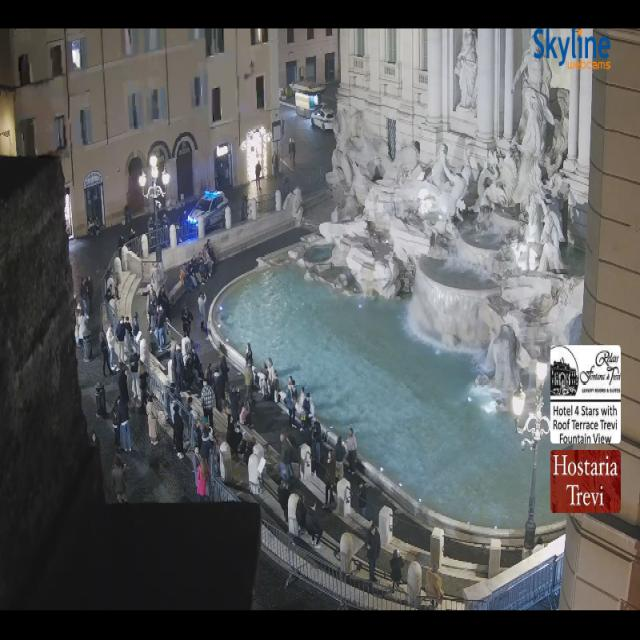person: (293, 421, 321, 473), (221, 386, 243, 446), (216, 383, 247, 422), (185, 396, 207, 447), (174, 342, 195, 391), (295, 421, 314, 470), (233, 422, 255, 464), (147, 289, 162, 349), (203, 425, 220, 477), (181, 337, 199, 386), (203, 426, 220, 477), (104, 269, 121, 316), (306, 503, 323, 549), (222, 383, 241, 424), (187, 396, 202, 447), (367, 523, 380, 581), (100, 326, 116, 372), (148, 213, 168, 249), (425, 566, 443, 606), (119, 392, 131, 452), (201, 379, 216, 426), (236, 368, 258, 400), (223, 382, 241, 421), (148, 213, 168, 248), (149, 286, 170, 319), (116, 317, 131, 363), (112, 457, 127, 502), (150, 288, 171, 320), (244, 365, 263, 400), (216, 386, 233, 425), (280, 432, 293, 483), (108, 270, 122, 317), (187, 241, 213, 266), (104, 268, 122, 303), (255, 359, 273, 393), (105, 269, 123, 302), (119, 317, 132, 362), (185, 257, 203, 289), (105, 269, 123, 301), (129, 352, 141, 400), (325, 449, 335, 506), (132, 329, 148, 364), (173, 344, 184, 394), (173, 403, 183, 458), (112, 396, 122, 451), (188, 251, 204, 285), (100, 331, 112, 376), (197, 456, 209, 501), (146, 396, 157, 444), (226, 422, 242, 455), (186, 257, 203, 288), (278, 479, 290, 522), (390, 550, 403, 589), (335, 436, 346, 482), (304, 397, 316, 439), (285, 377, 295, 427), (312, 421, 321, 475), (212, 368, 223, 412), (147, 289, 158, 333), (180, 263, 196, 293), (199, 426, 213, 460), (116, 316, 126, 363), (191, 253, 206, 284), (184, 259, 199, 290), (123, 206, 135, 244), (192, 350, 204, 387), (118, 364, 129, 404), (156, 306, 166, 349), (139, 360, 147, 413), (147, 295, 157, 337), (148, 290, 158, 332), (257, 364, 269, 399), (157, 288, 171, 318), (223, 385, 233, 426), (288, 436, 300, 470), (200, 242, 212, 276), (167, 341, 176, 386), (347, 428, 356, 473), (296, 494, 307, 530), (190, 255, 203, 285), (224, 381, 239, 407), (77, 311, 88, 346), (204, 245, 215, 279), (158, 213, 169, 246), (182, 304, 193, 337), (107, 326, 115, 371), (180, 263, 192, 293), (262, 363, 272, 399), (252, 363, 267, 387), (288, 377, 297, 417), (264, 357, 275, 389), (229, 390, 240, 422), (125, 209, 135, 244), (192, 448, 200, 491), (81, 278, 90, 316), (199, 250, 210, 281), (265, 359, 275, 393), (80, 280, 88, 321), (107, 271, 119, 298), (288, 439, 300, 466), (301, 394, 310, 430), (163, 307, 171, 347), (188, 259, 199, 288), (243, 438, 255, 464), (124, 317, 132, 356), (112, 269, 122, 299), (180, 266, 191, 293), (220, 356, 229, 389), (80, 278, 88, 315), (244, 366, 252, 403), (198, 293, 206, 330), (105, 269, 115, 298), (180, 337, 191, 363), (204, 240, 216, 263), (359, 484, 367, 518), (104, 276, 114, 303), (194, 417, 203, 447), (86, 276, 93, 314), (158, 211, 171, 231), (75, 303, 81, 346), (81, 278, 88, 314), (80, 278, 87, 314), (296, 387, 305, 415), (204, 410, 213, 438), (90, 431, 100, 456), (132, 326, 142, 351), (176, 210, 190, 227), (239, 431, 248, 457), (240, 403, 250, 426), (272, 370, 279, 402), (255, 162, 262, 191), (303, 392, 311, 417), (170, 400, 179, 422), (282, 177, 291, 198), (204, 364, 213, 385), (176, 210, 187, 227), (108, 298, 118, 316), (300, 409, 308, 431), (272, 153, 279, 178), (246, 343, 253, 368), (309, 395, 315, 424), (87, 216, 96, 235), (123, 204, 131, 225), (132, 312, 139, 336), (92, 215, 100, 236), (241, 194, 247, 221), (148, 216, 155, 239), (90, 431, 99, 447), (275, 153, 281, 177), (124, 316, 132, 334), (87, 218, 95, 236), (272, 152, 277, 178), (162, 213, 169, 231), (94, 215, 100, 235), (88, 218, 95, 235), (288, 138, 292, 166), (128, 228, 136, 241), (119, 236, 125, 253), (287, 138, 291, 162), (73, 294, 79, 309), (292, 138, 295, 166), (536, 537, 543, 545), (281, 117, 284, 135)
